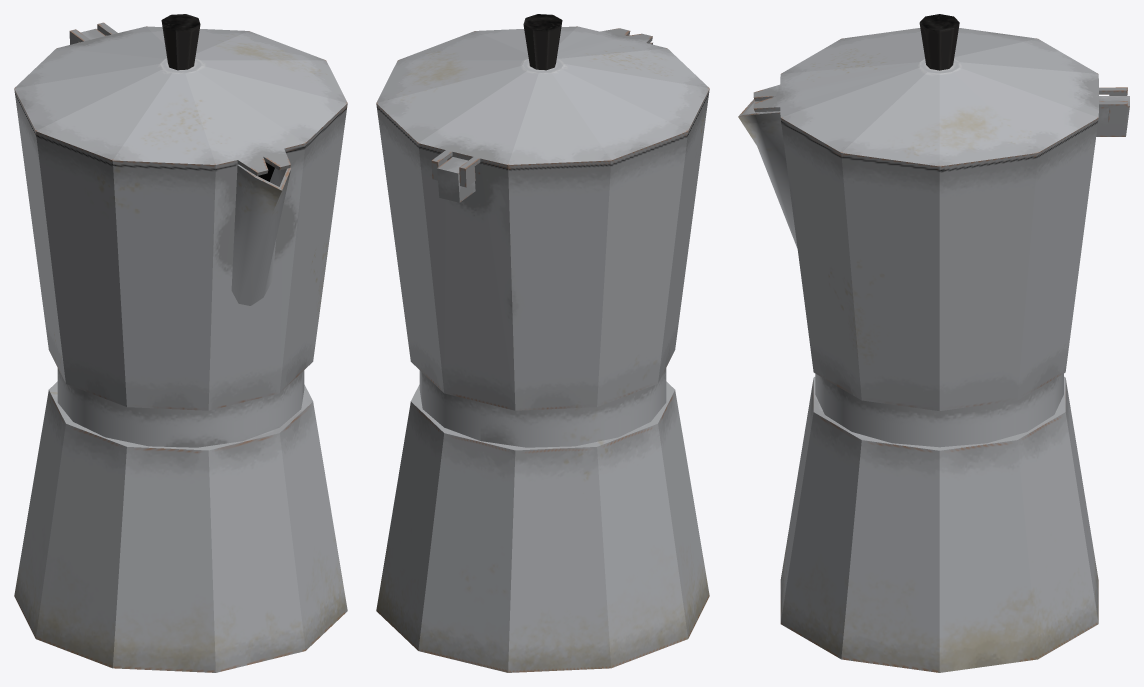
File: Coffee01.FBX
The picture shows the model from 3 angles, left to right: view 1: azimuth 30°, elevation 25°; view 2: azimuth 150°, elevation 25°; view 3: azimuth 270°, elevation 25°; orthographic projection.
Parts seen in each view (by area): view 1: Coffee01_LOD0; view 2: Coffee01_LOD0; view 3: Coffee01_LOD0.
Boxes of the visible parts, x1,y1,x2,y2 form: Coffee01_LOD0: (14, 14, 347, 672); Coffee01_LOD0: (376, 14, 709, 672); Coffee01_LOD0: (738, 14, 1129, 672).
Bounding box in the file's own units: 8.4 × 9.85 × 16.07.
